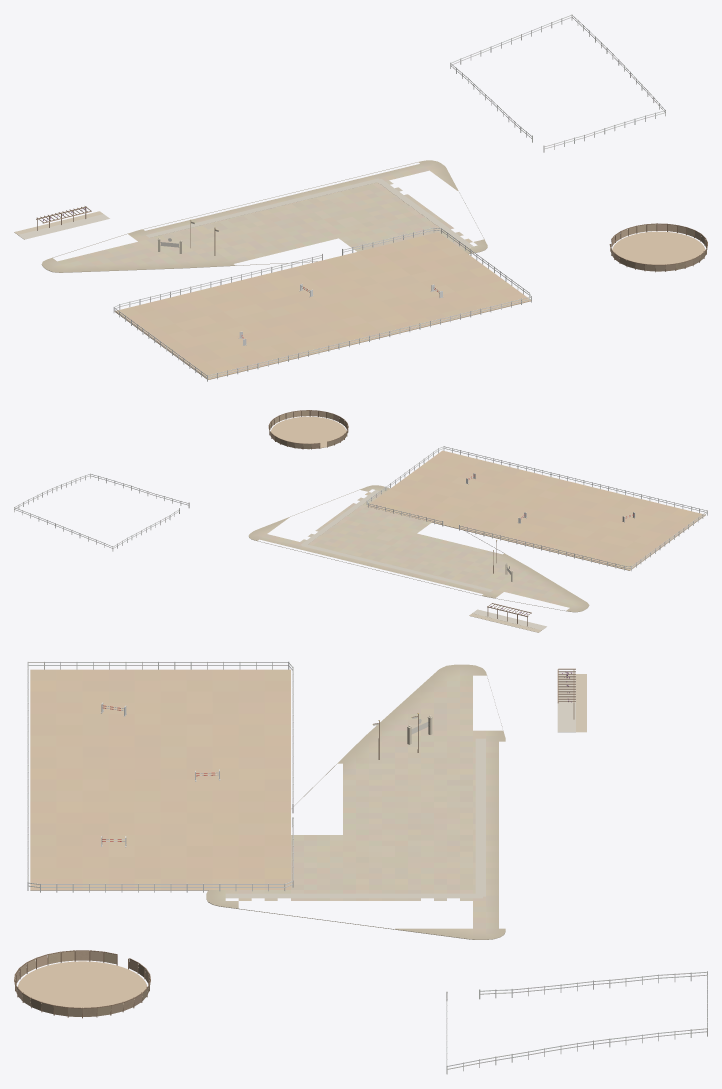
Rendered from SM_BM_BE_4_Grounds.glb.
The picture shows the model from 3 angles, top to bottom: view 1: azimuth 30°, elevation 25°; view 2: azimuth 150°, elevation 25°; view 3: azimuth 270°, elevation 25°; orthographic projection. The views are drawn at different scales.
Visible parts, largest first — view 1: SM_BM_BE_4_Grounds; view 2: SM_BM_BE_4_Grounds; view 3: SM_BM_BE_4_Grounds.
Boxes of the visible parts, bbox=[...] form: SM_BM_BE_4_Grounds: bbox=[14, 14, 707, 381]; SM_BM_BE_4_Grounds: bbox=[14, 410, 707, 632]; SM_BM_BE_4_Grounds: bbox=[14, 661, 707, 1074].
Bounding box in the file's own units: 152 × 9.63 × 107.
